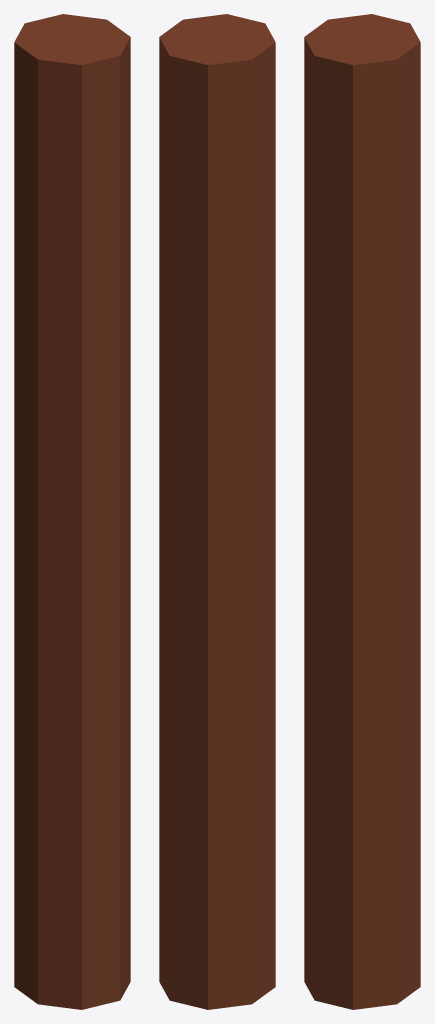
File: SM_fence_07_001.glb
3 renders of one model, left to right at view 1: azimuth 30°, elevation 25°; view 2: azimuth 150°, elevation 25°; view 3: azimuth 330°, elevation 25°, orthographic.
Visible parts, largest first — view 1: SM_fence_07.001; view 2: SM_fence_07.001; view 3: SM_fence_07.001.
Boxes of the visible parts, bbox=[...] form: SM_fence_07.001: bbox=[14, 14, 130, 1009]; SM_fence_07.001: bbox=[159, 14, 275, 1009]; SM_fence_07.001: bbox=[304, 14, 420, 1009].
Bounding box in the file's own units: 0.1439 × 1.4 × 0.1536.
1 material, 1 textured.
